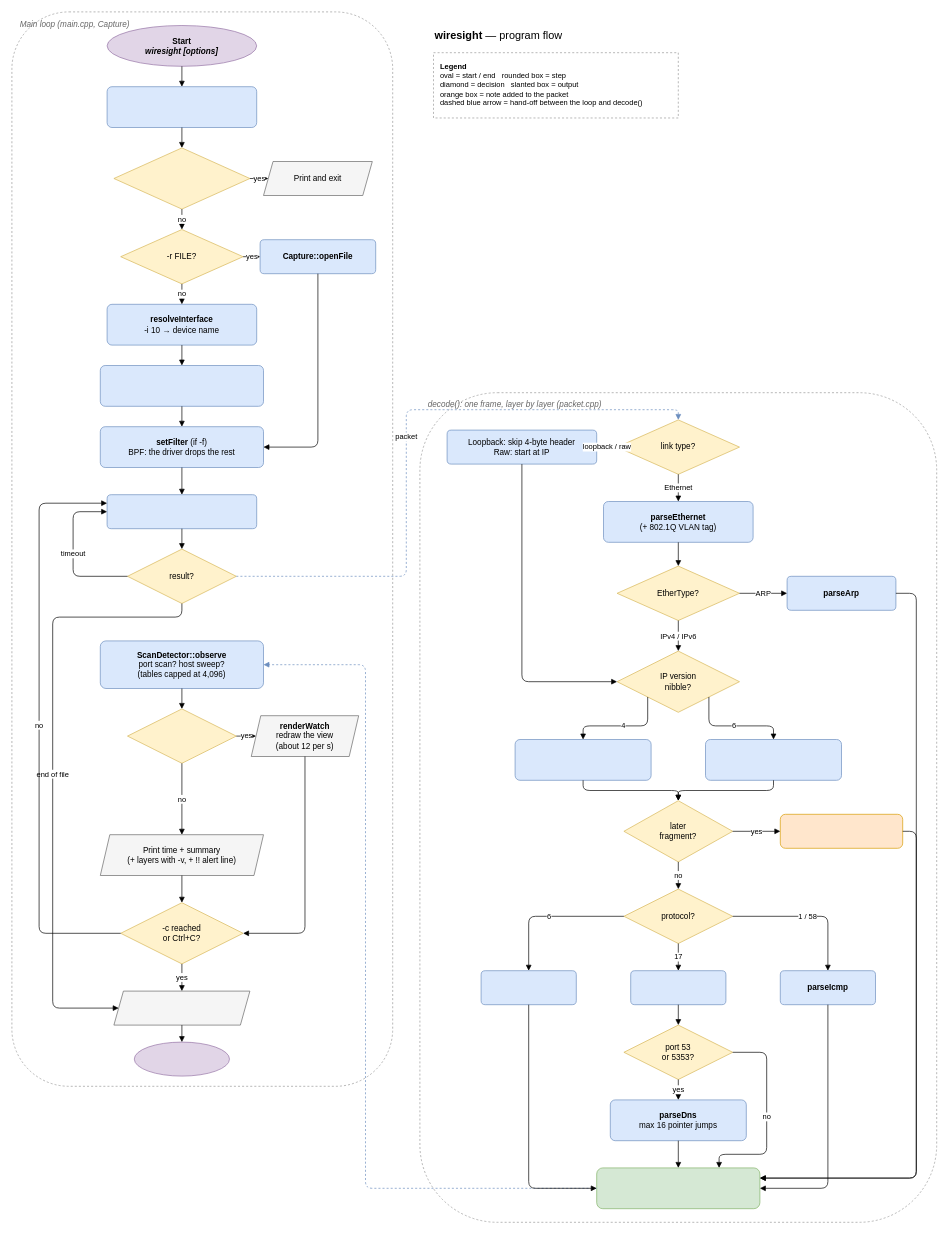
Some shapes in this 949 by 1234 pixel diagram are drawn without their labels. The centre of each missing label's shape, as x and y in pixels:
--help, --version or --list?: point 181,178
--watch?: point 181,735
Capture::next: point 181,511
Capture::openLive 512 B per frame, 250 ms timeout: point 182,385
DecodedPacket layers found + notes: point 678,1188
End: point 182,1058
note: fragment, no transport header: point 841,831
parseArguments exactly one of -l, -i, -r: point 181,107
parseIpv4 checksum, fragment: point 582,759
parseIpv6 walk extension headers: point 773,759
parseTcp: point 528,987
parseUdp: point 678,987
Print packet count (stderr): point 181,1007
